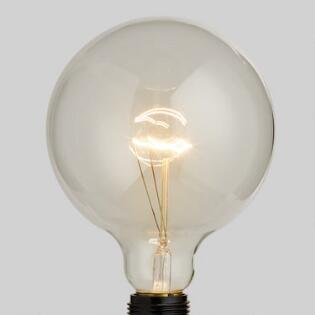Nonrec_Glass: (39, 12, 280, 302)
